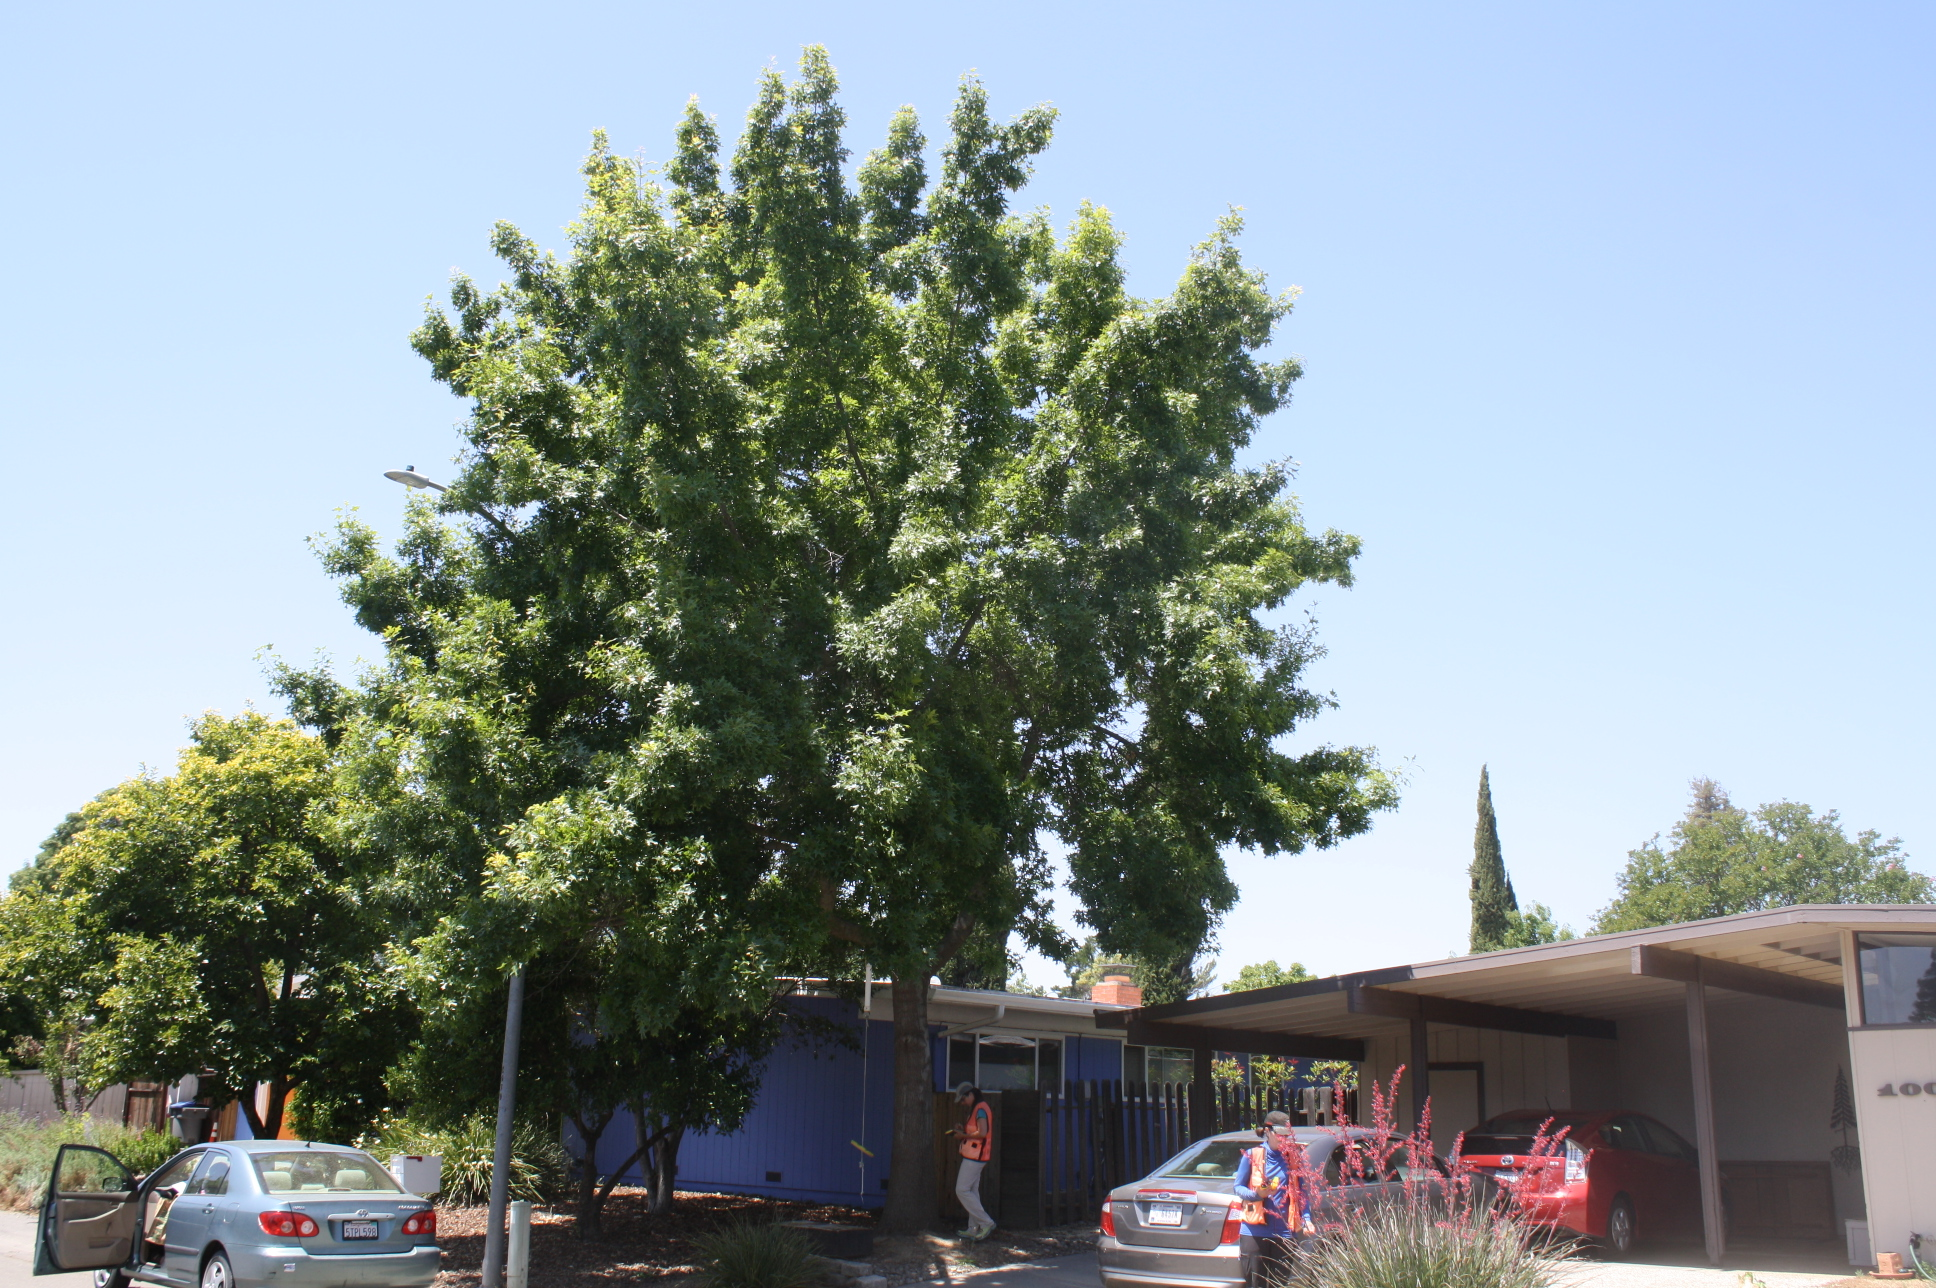tree: (256, 37, 1411, 1245), (1, 703, 356, 1136)
